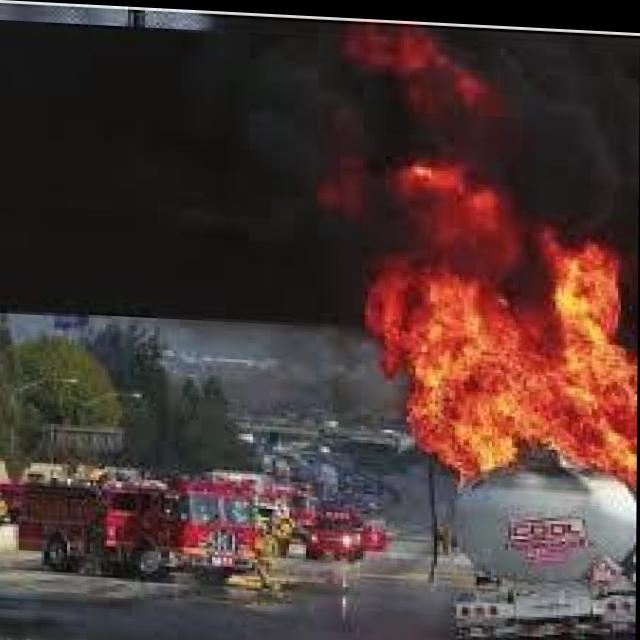fire: (350, 154, 636, 481)
